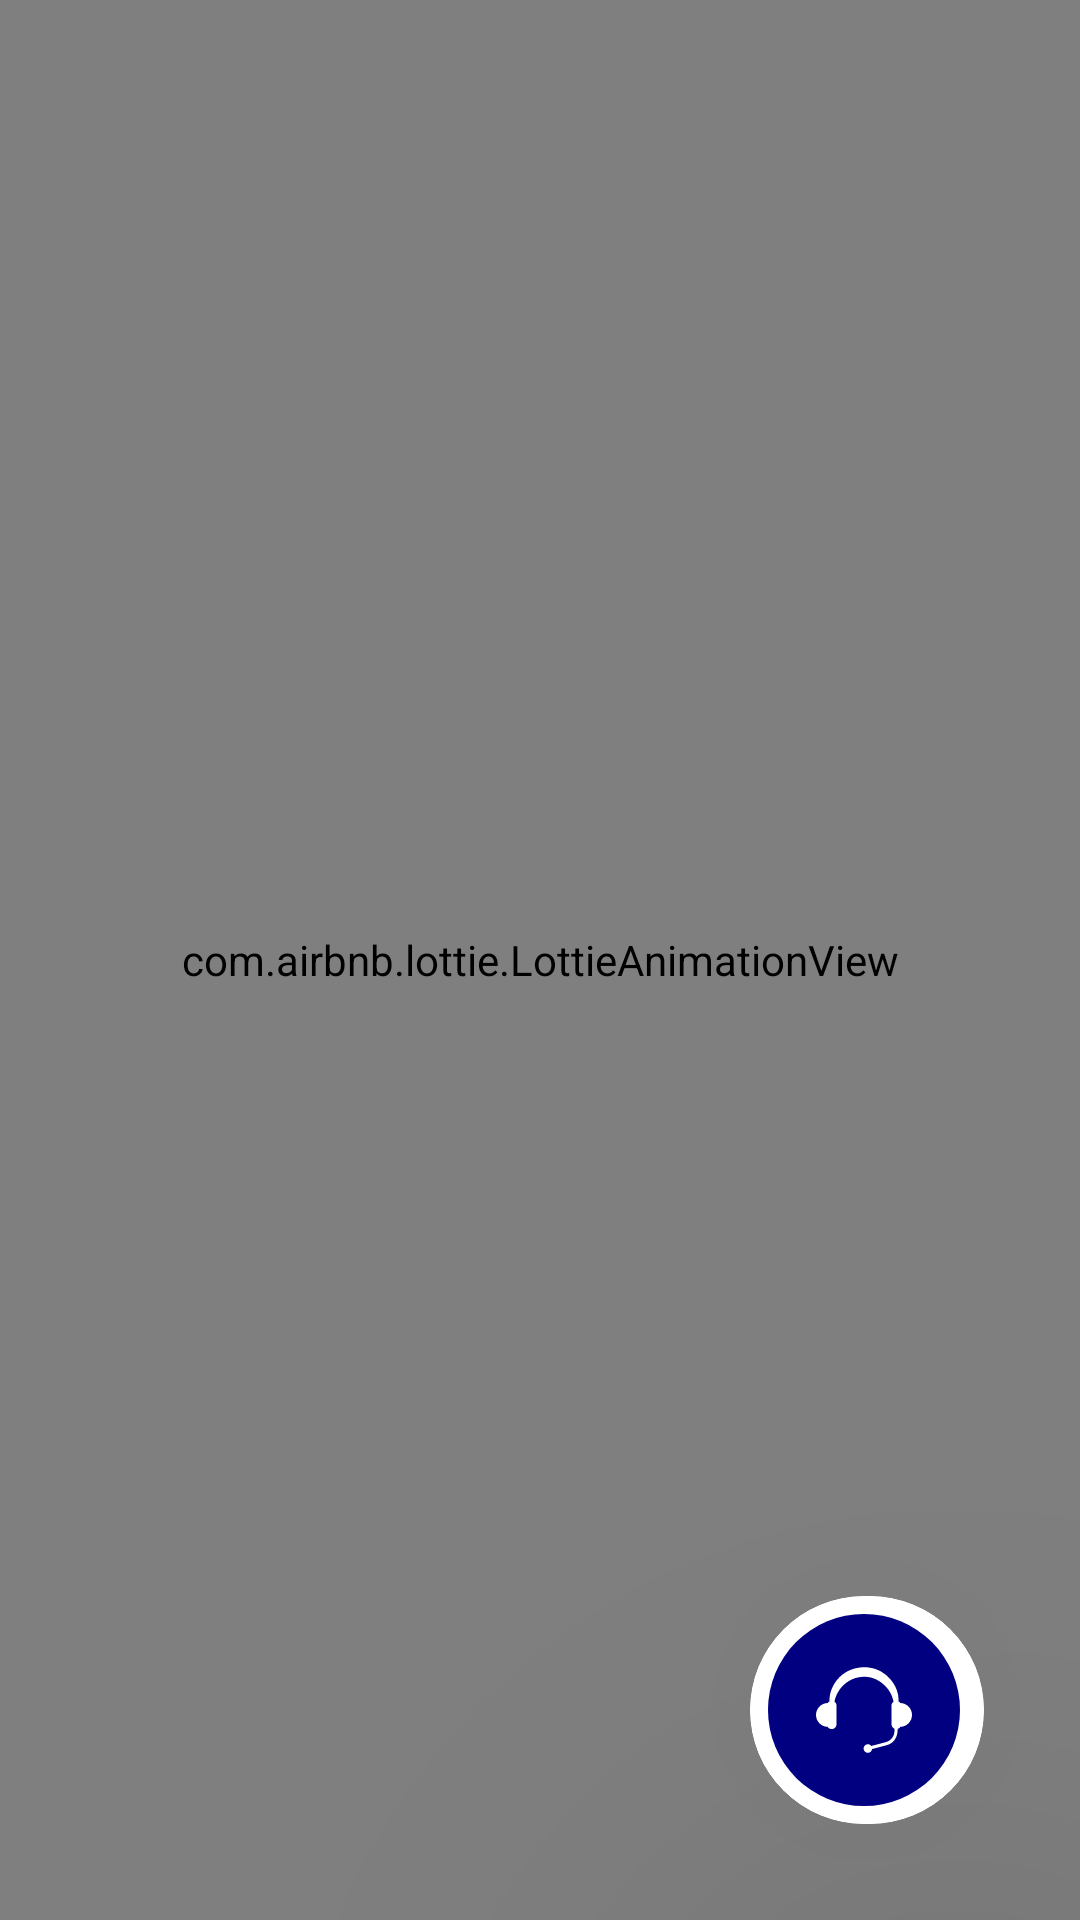

Screen size 1080 × 1920. Icon name, then its center in pixels as (x,y):
Support: (864,1710)
